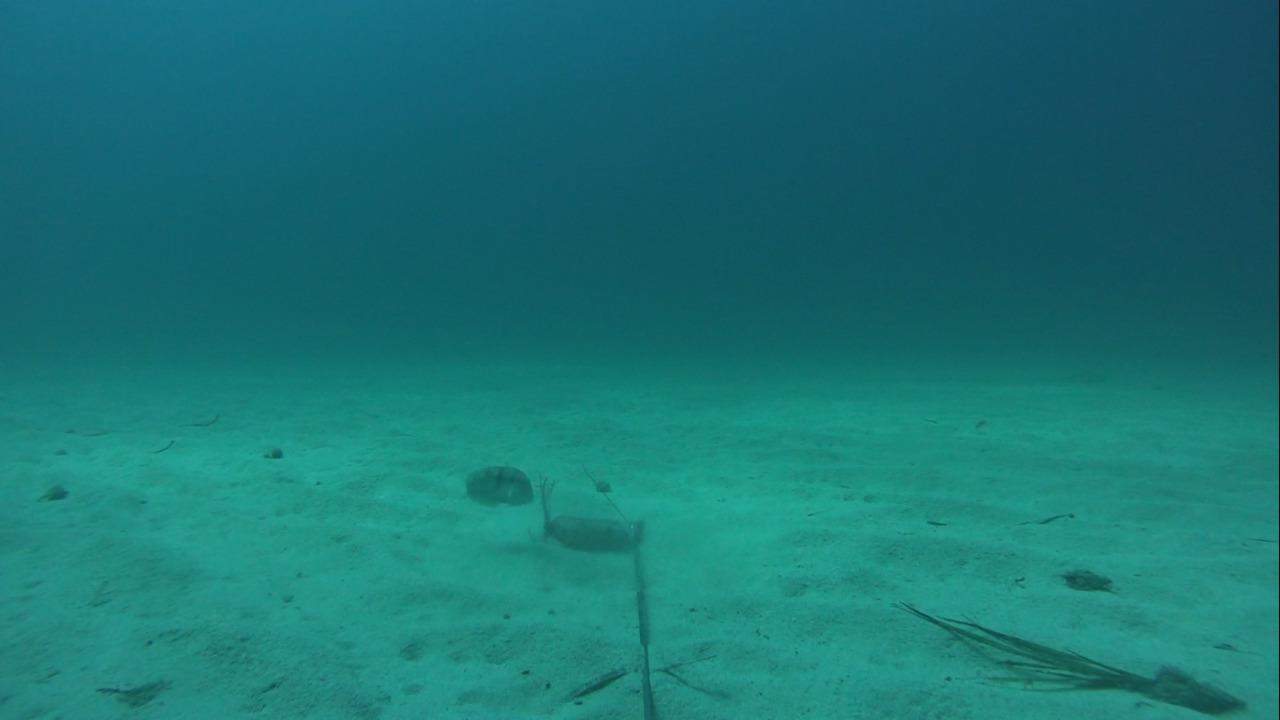raor: (458, 455, 536, 510)
